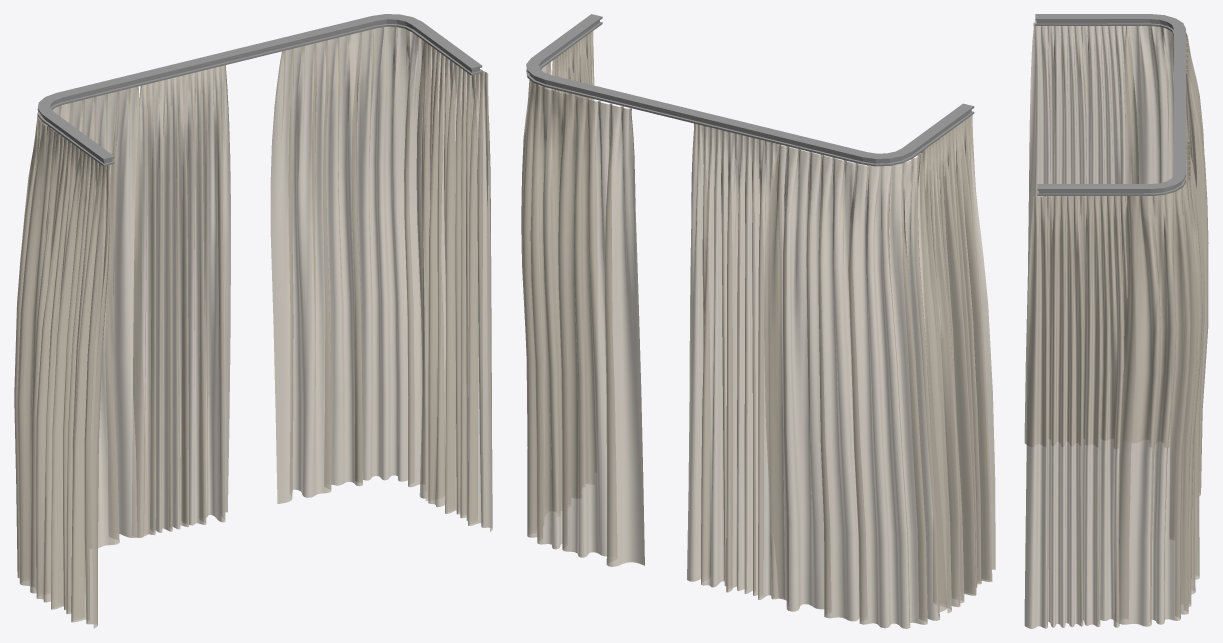
The model's file is curtain-two.glb.
3 views of the same model, side by side, from view 1: azimuth 30°, elevation 25°; view 2: azimuth 150°, elevation 25°; view 3: azimuth 270°, elevation 25° (orthographic). The views are drawn at different scales.
Visible parts, largest first — view 1: Curtain Left.003; view 2: Curtain Left.003; view 3: Curtain Left.003.
Part boxes in pixels (x1=…): Curtain Left.003: x1=14, y1=14, x2=492, y2=628; Curtain Left.003: x1=521, y1=14, x2=995, y2=628; Curtain Left.003: x1=1024, y1=14, x2=1208, y2=628.
Size of the model in its own units: 1.48 by 1.58 by 0.6033.
2 materials, 1 textured.
